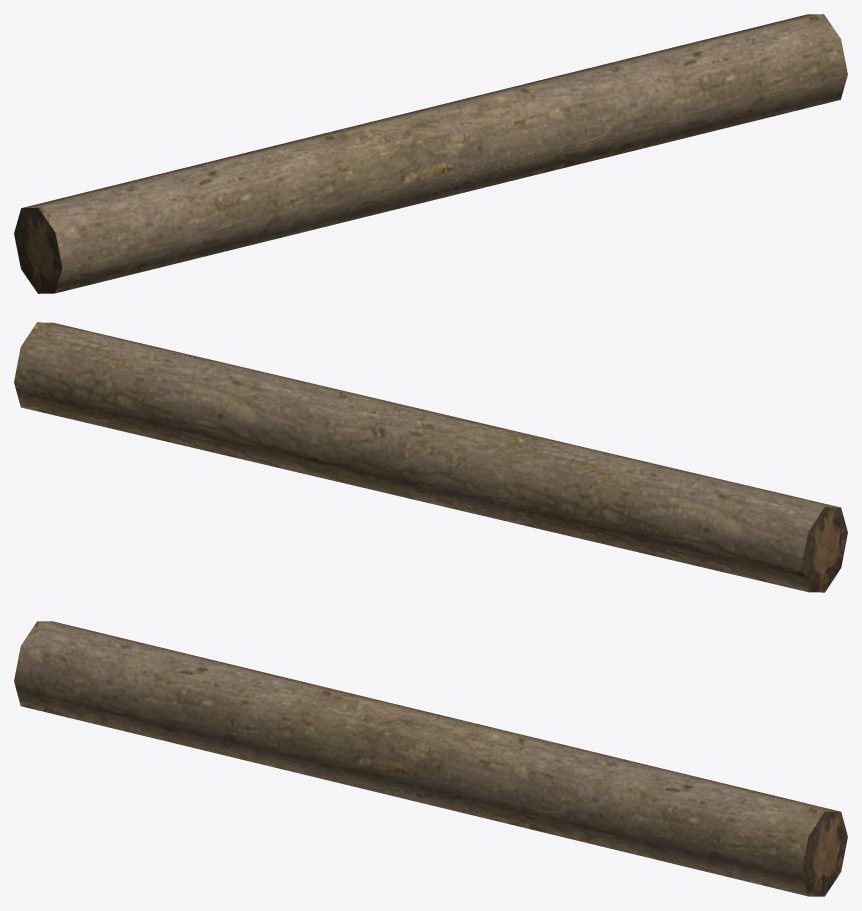
3 renders of one model, top to bottom at view 1: azimuth 30°, elevation 25°; view 2: azimuth 150°, elevation 25°; view 3: azimuth 330°, elevation 25°, orthographic.
Parts seen in each view (by area): view 1: SW_AS_lo; view 2: SW_AS_lo; view 3: SW_AS_lo.
Boxes of the visible parts, x1,y1,x2,y2 form: SW_AS_lo: [14, 14, 847, 293]; SW_AS_lo: [14, 322, 847, 592]; SW_AS_lo: [14, 621, 847, 896].
Size of the model in its own units: 1.2 by 0.1287 by 0.1374.
1 material, 1 textured.
